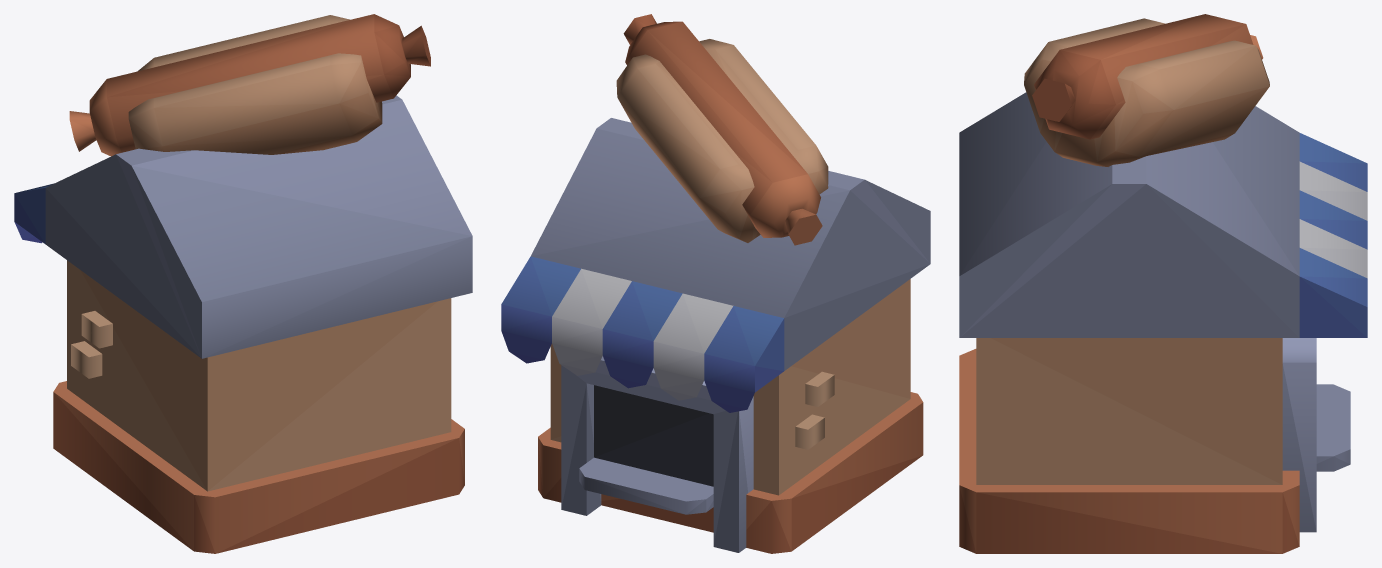
File: coaster_stall_food.glb
The picture shows the model from 3 angles, left to right: view 1: azimuth 30°, elevation 25°; view 2: azimuth 150°, elevation 25°; view 3: azimuth 270°, elevation 25°; orthographic projection. The views are drawn at different scales.
Visible parts, largest first — view 1: coaster_stall_food; view 2: coaster_stall_food; view 3: coaster_stall_food.
Boxes of the visible parts, left/top/right/bottom form: coaster_stall_food: left=14, top=14, right=472, bottom=553; coaster_stall_food: left=501, top=14, right=930, bottom=553; coaster_stall_food: left=959, top=14, right=1367, bottom=553.
Size of the model in its own units: 1.04 by 1.54 by 1.2.
